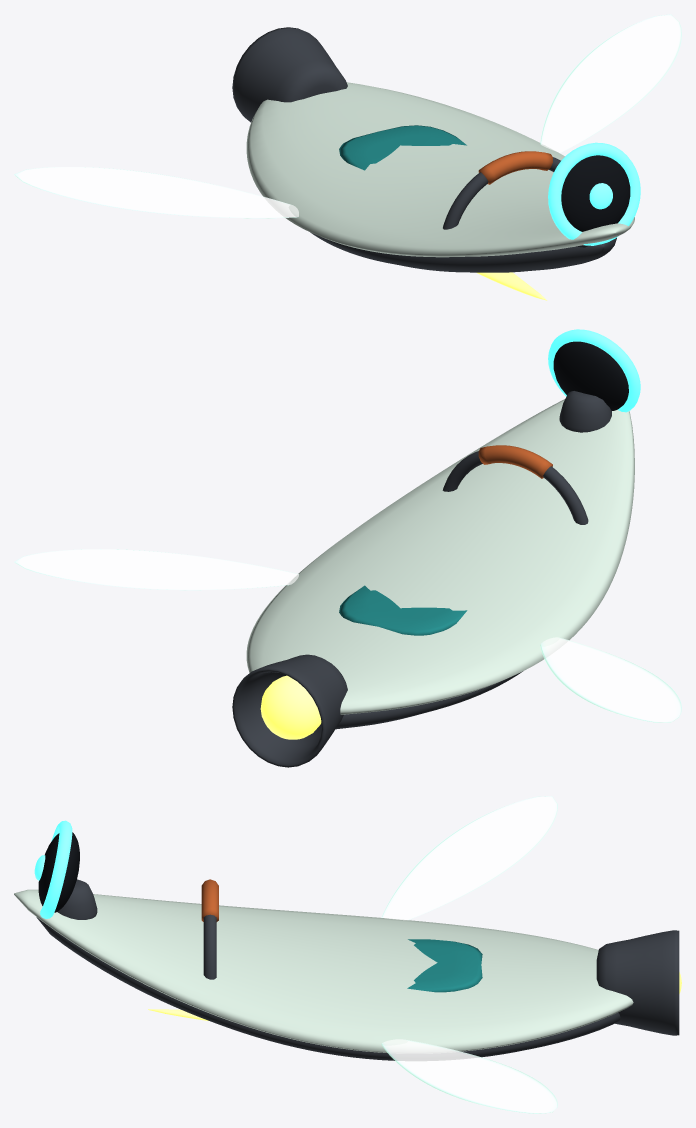
File: skiff.glb
The picture shows the model from 3 angles, top to bottom: view 1: azimuth 30°, elevation 25°; view 2: azimuth 150°, elevation 25°; view 3: azimuth 270°, elevation 25°; orthographic projection.
Parts seen in each view (by area): view 1: Deck, WingLeafL, WingLeafR, Thruster, Keel, Lens, LensRing, FootPad, RailGrip, Rail, GlowStrip, Pupil; view 2: Deck, WingLeafL, Thruster, WingLeafR, Lens, FootPad, BulbGlow, LensRing, EyeMount, Keel, Rail, RailGrip; view 3: Deck, WingLeafR, Thruster, WingLeafL, Keel, FootPad, Lens, LensRing, EyeMount, Rail, RailGrip.
Boxes of the visible parts, bbox=[...] form: Deck: bbox=[246, 82, 634, 257]; WingLeafL: bbox=[540, 14, 681, 153]; WingLeafR: bbox=[14, 167, 298, 218]; Thruster: bbox=[232, 27, 347, 122]; Keel: bbox=[310, 232, 616, 272]; Lens: bbox=[561, 155, 630, 231]; LensRing: bbox=[548, 142, 640, 245]; FootPad: bbox=[339, 125, 466, 170]; RailGrip: bbox=[478, 151, 552, 184]; Rail: bbox=[443, 157, 560, 229]; GlowStrip: bbox=[476, 272, 547, 300]; Pupil: bbox=[589, 183, 612, 209]; Deck: bbox=[246, 399, 634, 714]; WingLeafL: bbox=[14, 549, 298, 590]; Thruster: bbox=[232, 654, 347, 767]; WingLeafR: bbox=[540, 637, 681, 722]; Lens: bbox=[553, 341, 628, 410]; FootPad: bbox=[339, 585, 467, 635]; BulbGlow: bbox=[260, 675, 321, 739]; LensRing: bbox=[548, 329, 640, 412]; EyeMount: bbox=[559, 391, 611, 432]; Keel: bbox=[336, 671, 522, 729]; Rail: bbox=[442, 451, 588, 524]; RailGrip: bbox=[478, 445, 552, 478]; Deck: bbox=[14, 889, 633, 1052]; WingLeafR: bbox=[381, 796, 557, 920]; Thruster: bbox=[596, 930, 679, 1035]; WingLeafL: bbox=[381, 1039, 557, 1113]; Keel: bbox=[36, 917, 620, 1060]; FootPad: bbox=[407, 939, 482, 992]; Lens: bbox=[38, 832, 79, 912]; LensRing: bbox=[40, 820, 72, 918]; EyeMount: bbox=[57, 879, 97, 919]; Rail: bbox=[203, 914, 216, 979]; RailGrip: bbox=[201, 879, 218, 921].
Size of the model in its own units: 1.98 by 0.6003 by 1.77.
